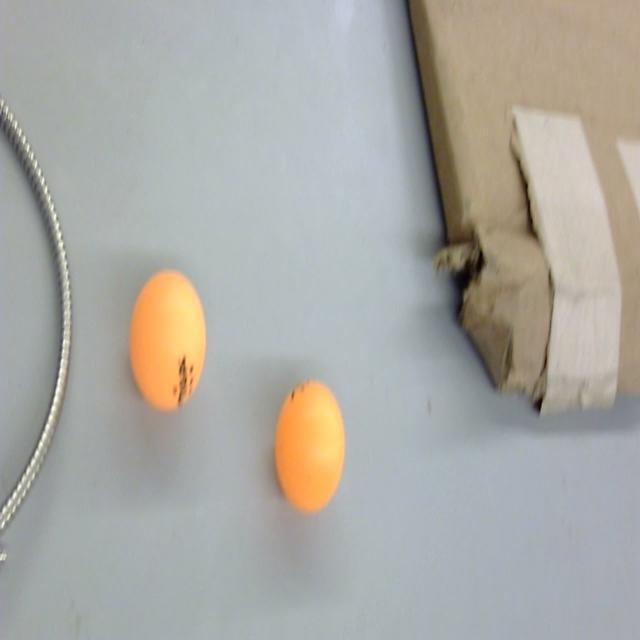ball: (126, 267, 208, 413), (273, 377, 347, 515)
